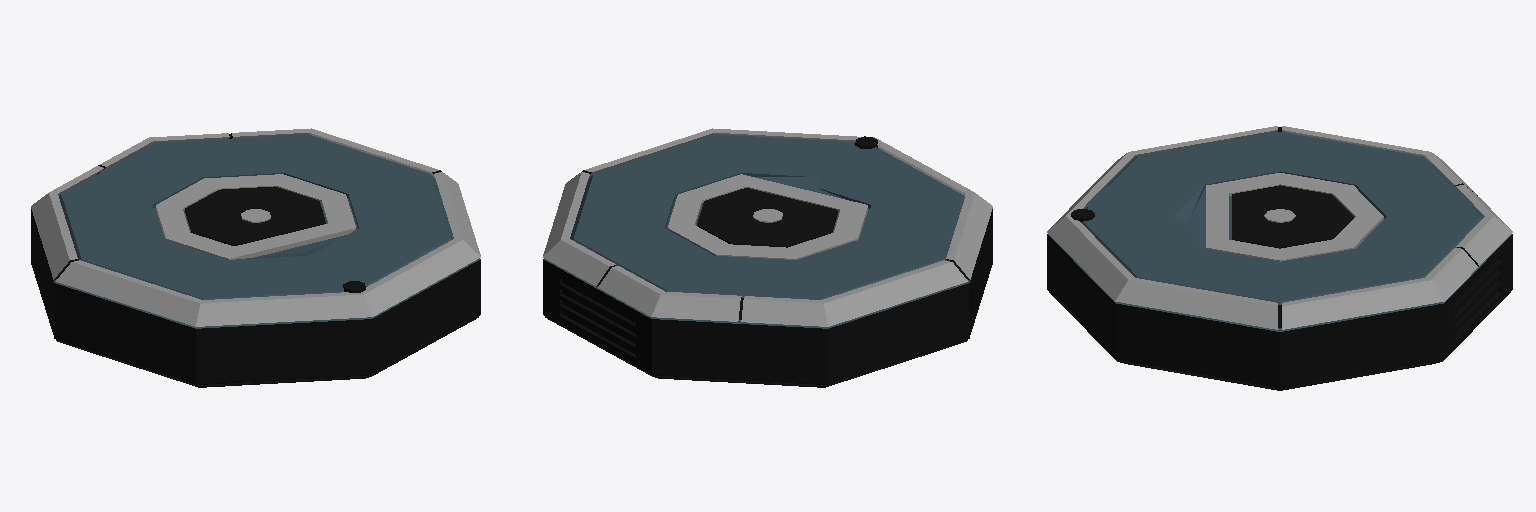
The model's file is Roomba_01.obj.
The picture shows the model from 3 angles: view 1: azimuth 30°, elevation 25°; view 2: azimuth 150°, elevation 25°; view 3: azimuth 270°, elevation 25°; orthographic projection.
Visible parts, largest first — view 1: Roomba_Circle.003; view 2: Roomba_Circle.003; view 3: Roomba_Circle.003.
Part boxes in pixels (bbox=[...]): Roomba_Circle.003: bbox=[31, 128, 480, 387]; Roomba_Circle.003: bbox=[543, 128, 992, 387]; Roomba_Circle.003: bbox=[1047, 126, 1512, 390].
Bounding box in the file's own units: 10.62 × 2.14 × 10.66.